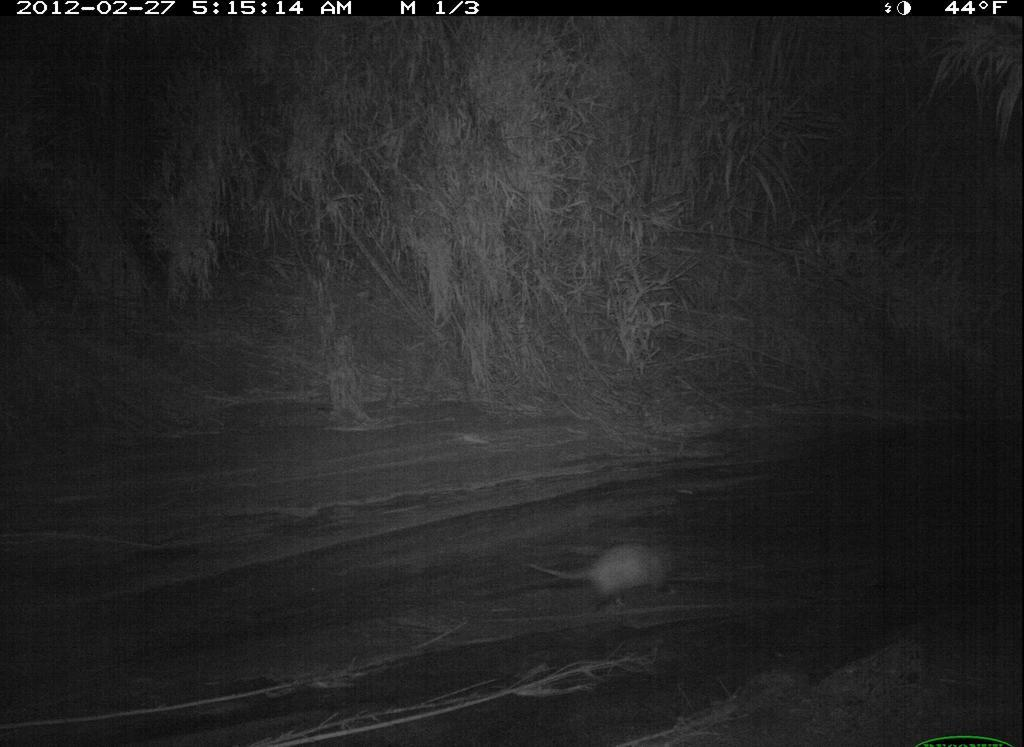opossum: (524, 532, 696, 615)
